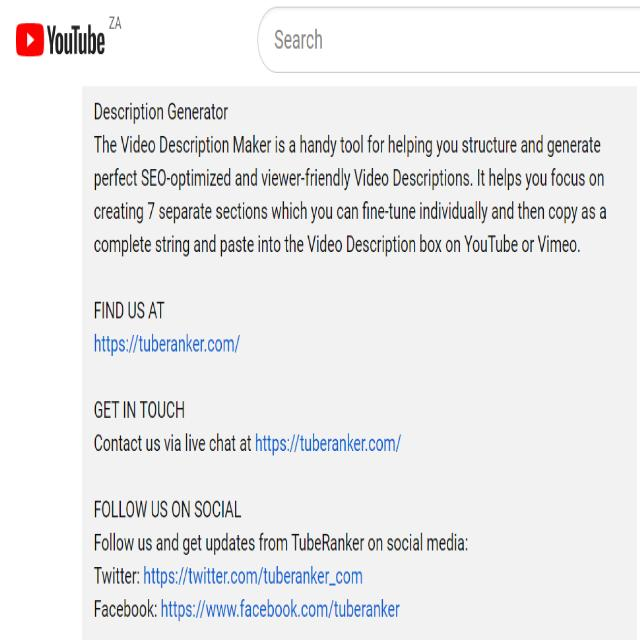buttons: (15, 21, 107, 62)
input-fields: (264, 5, 636, 70)
links: (160, 599, 400, 625), (144, 568, 363, 588), (95, 336, 242, 359), (255, 434, 402, 455)
text: (93, 104, 609, 257), (93, 531, 466, 553), (95, 430, 250, 461), (93, 502, 240, 516), (94, 300, 164, 320), (94, 405, 187, 418)
